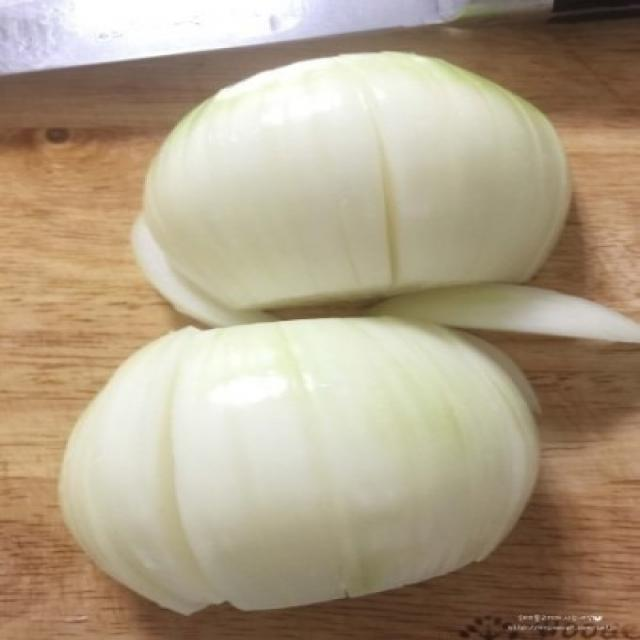onion: (57, 309, 622, 599), (106, 44, 640, 331)
